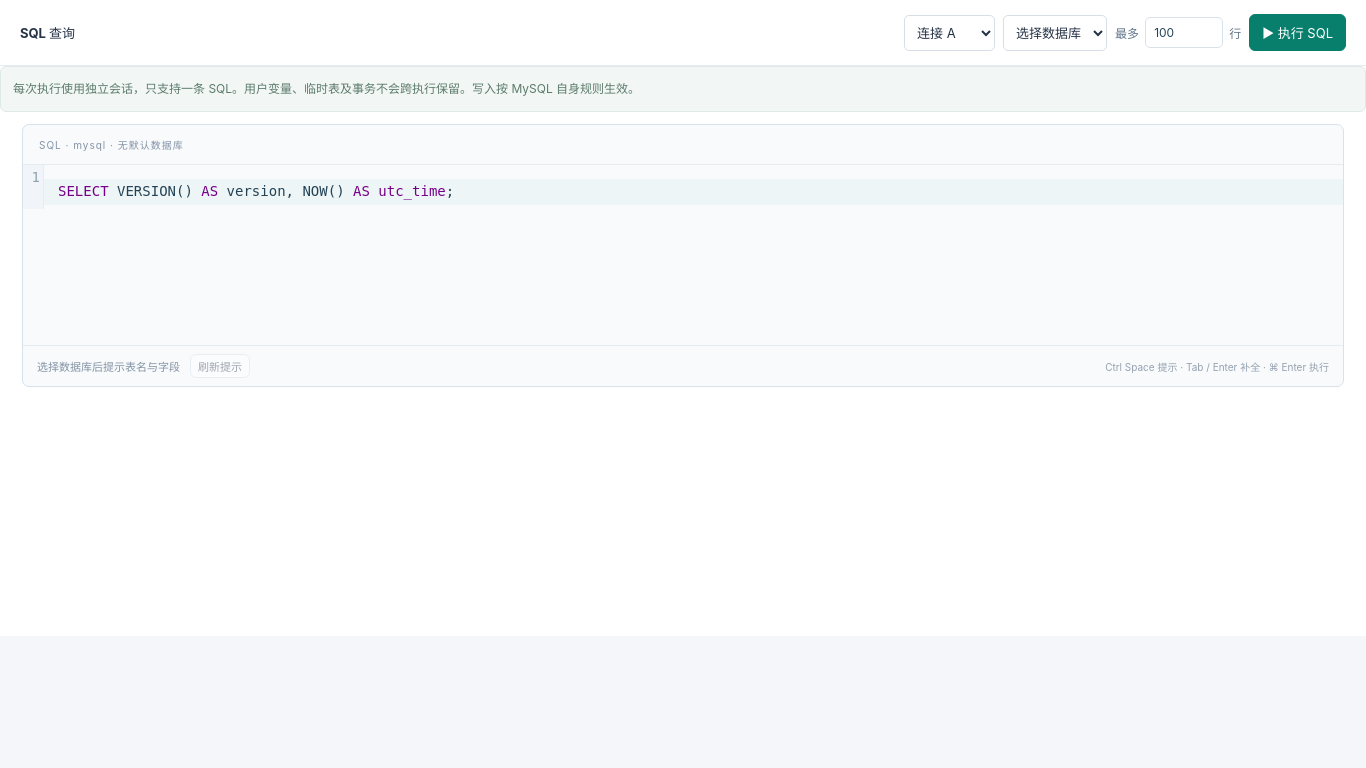
it: does not offer result export for statements with no result columns
Click the button "▶ 执行 SQL": (1298, 32) [1249,14,1346,51]
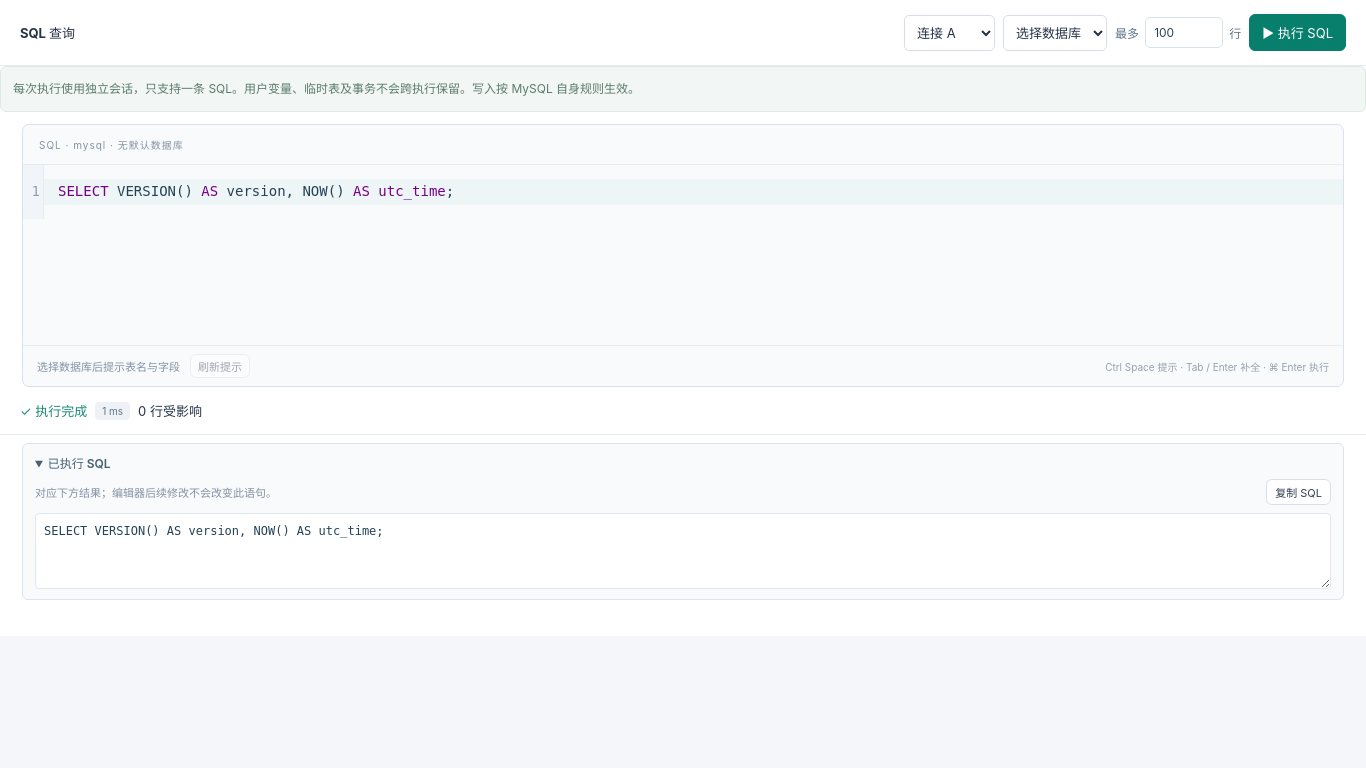
Check: the text "0 行受影响" is shown, box [138,401,202,420]
